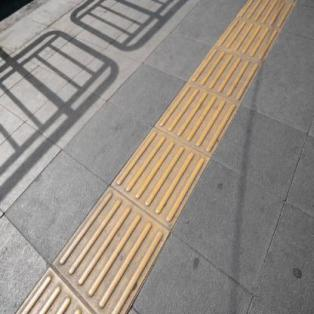Podoctatil: (15, 2, 296, 310)
